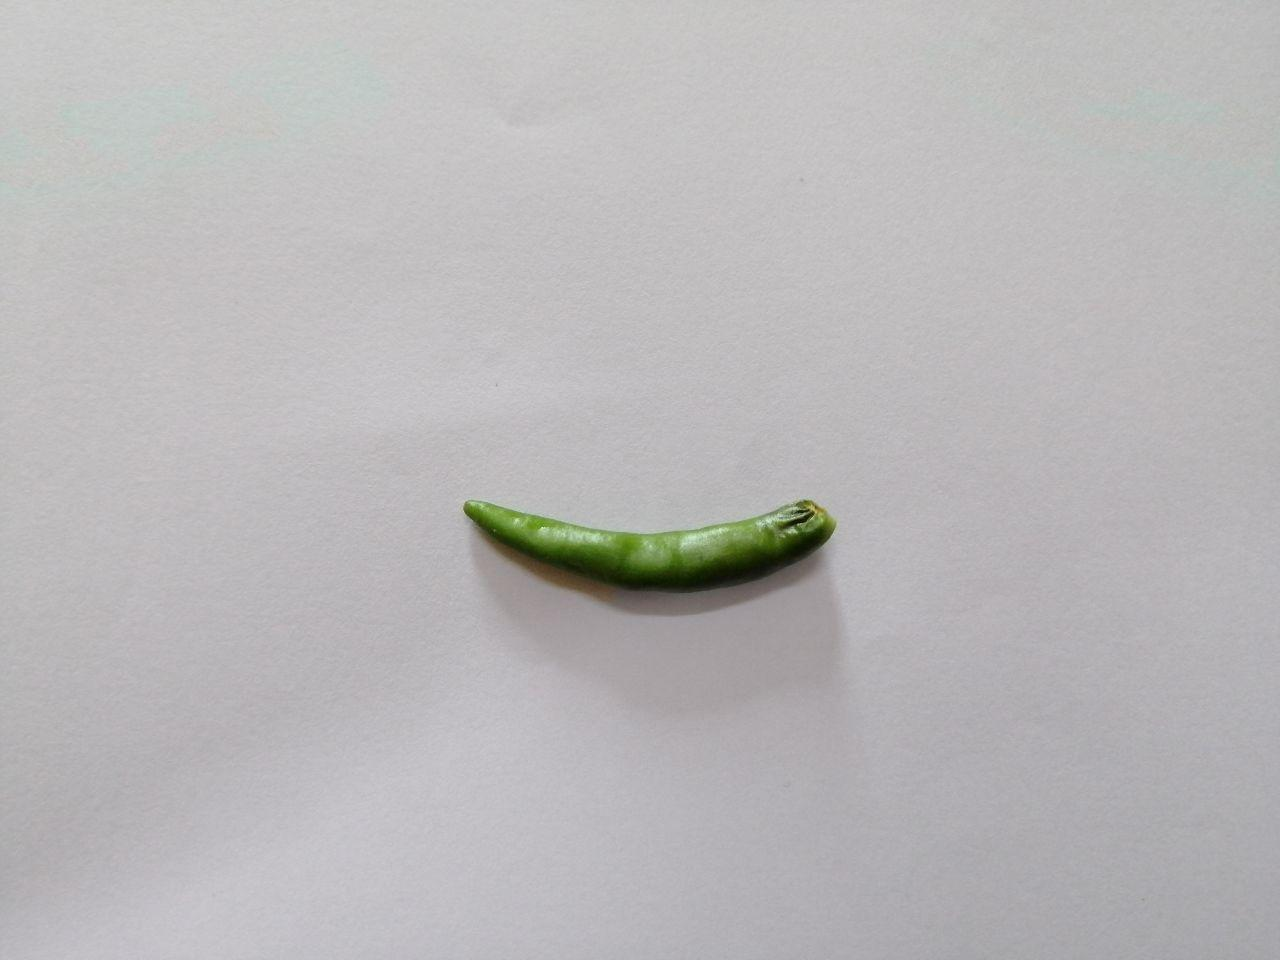lada hijau: (435, 458, 878, 622)
